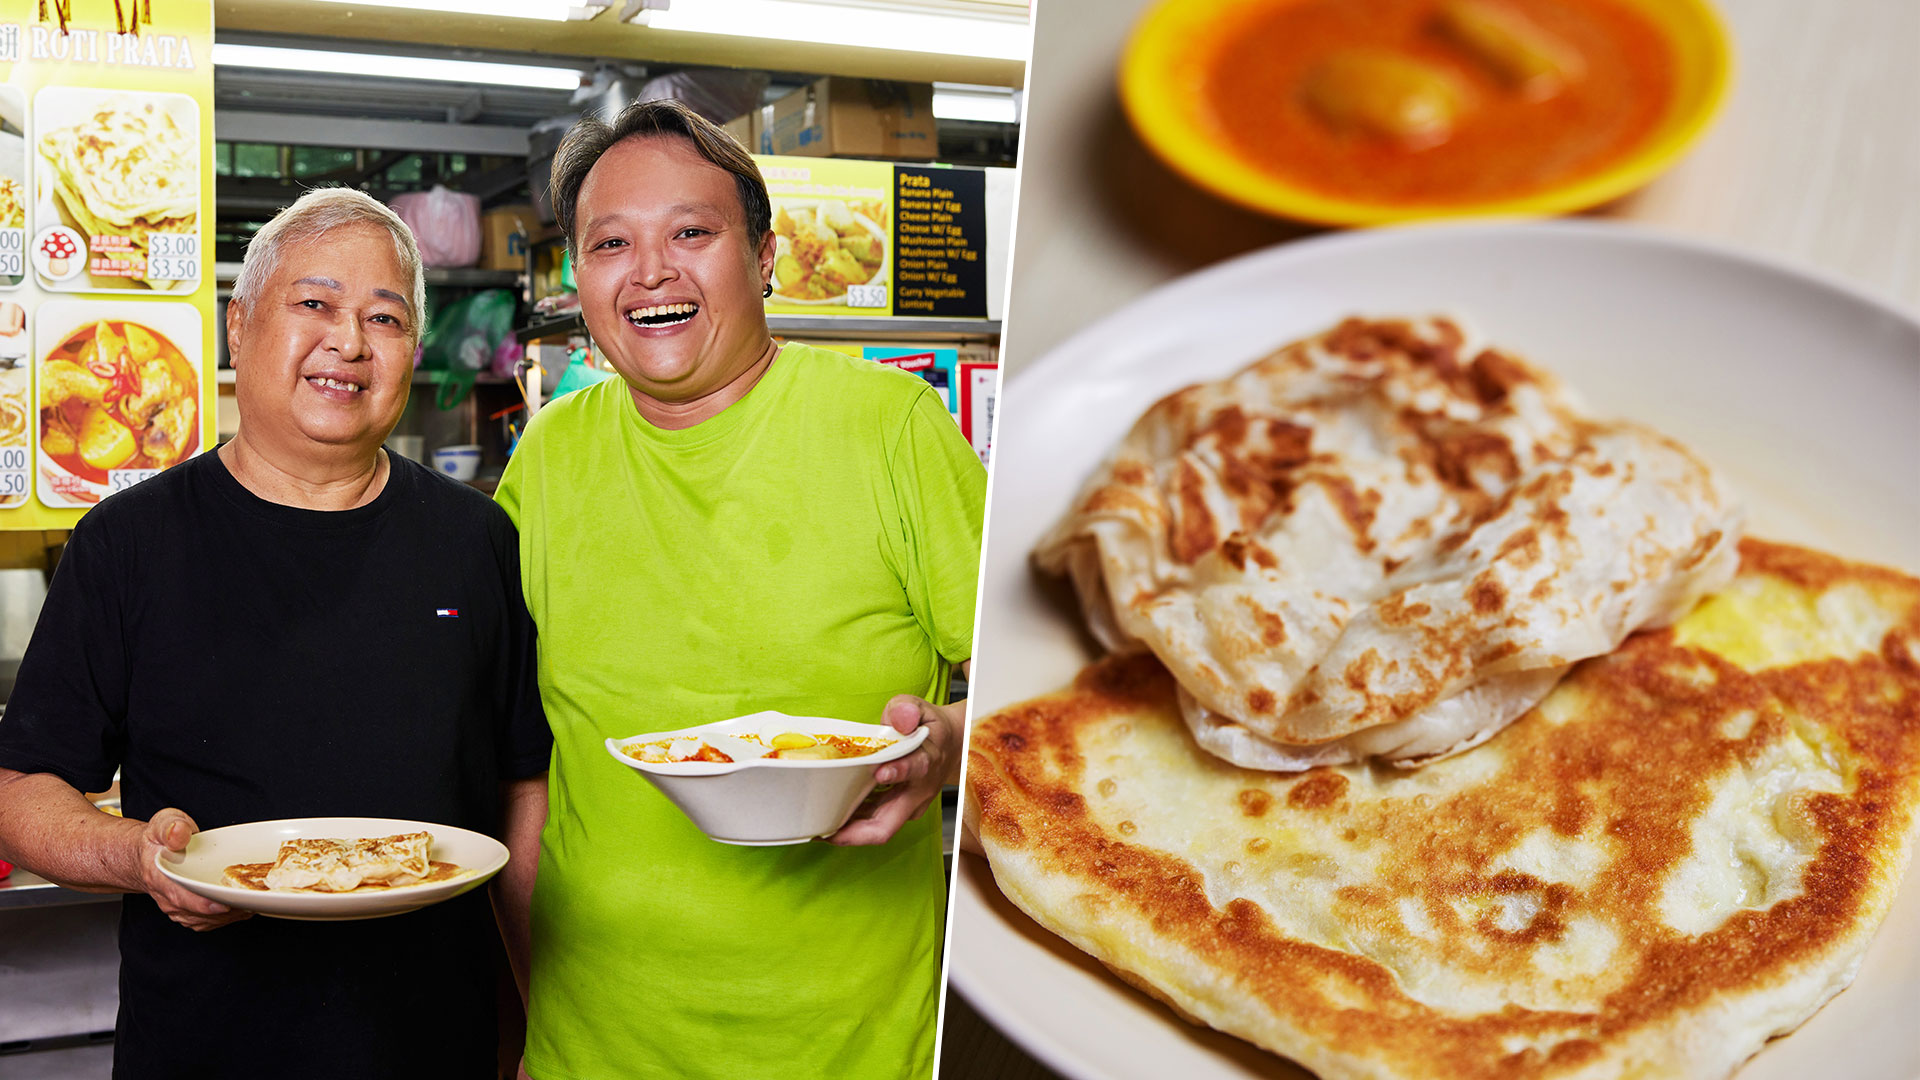Prata: (971, 529, 1919, 1069), (1056, 289, 1771, 727)
